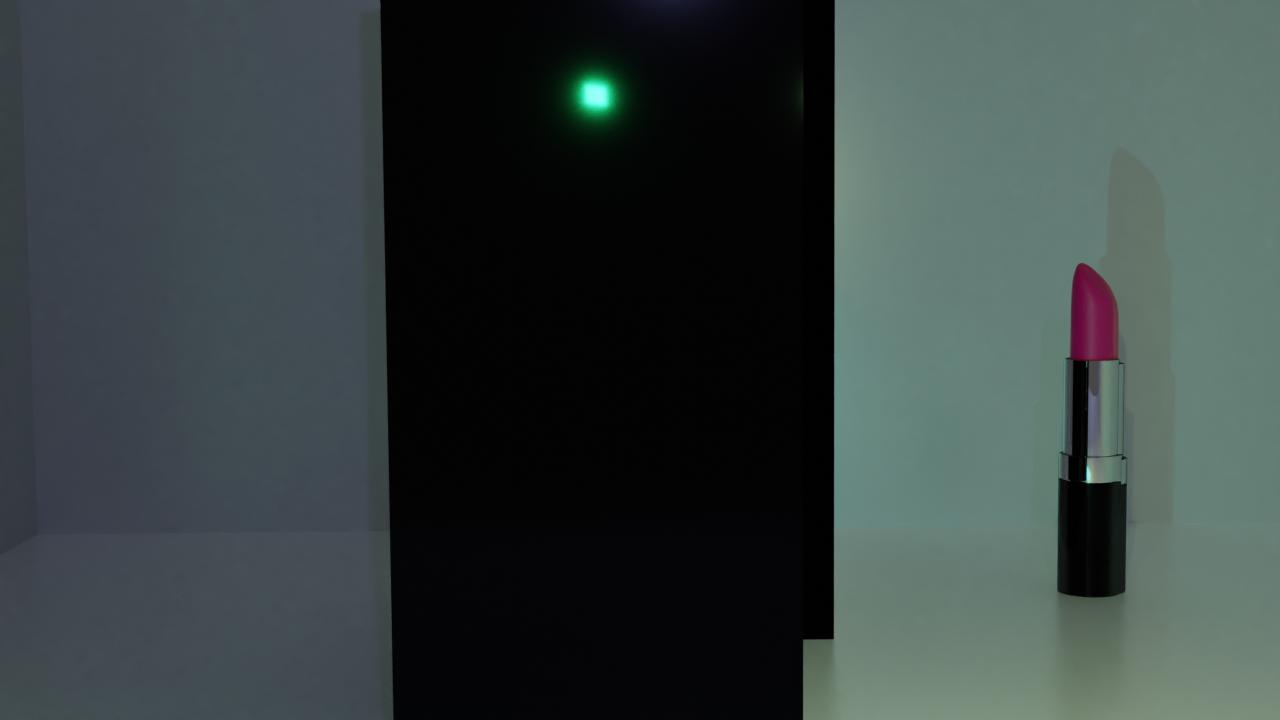CLASSIFIER_NAME: (1056, 259, 1124, 598)
